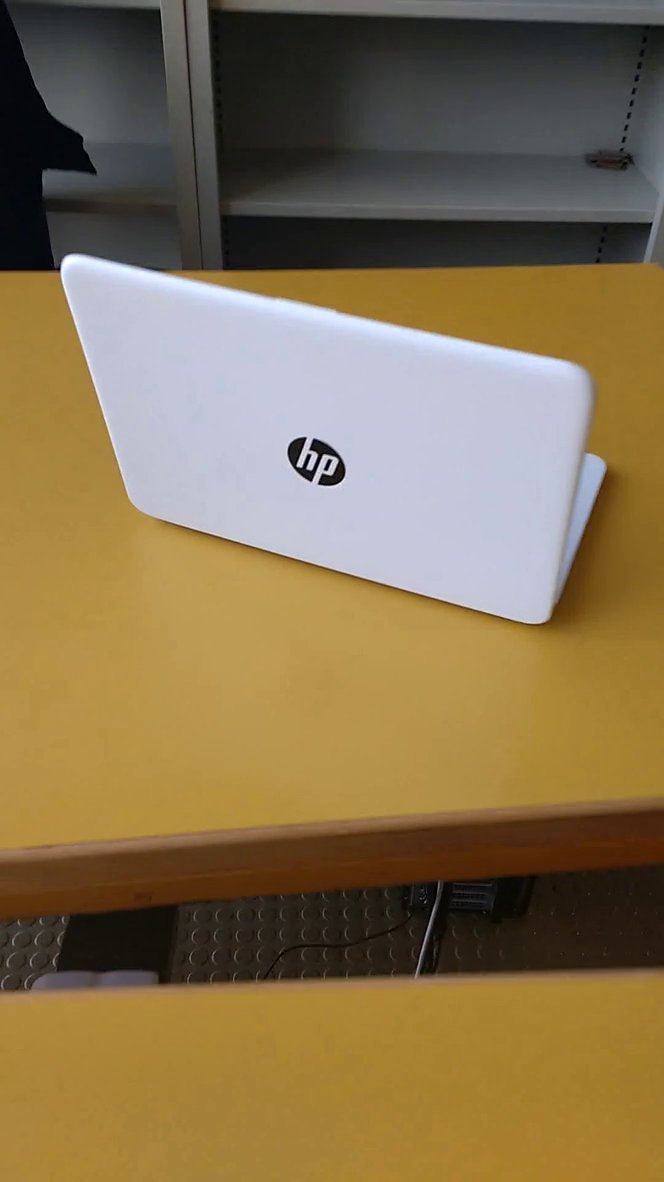laptop: (54, 240, 625, 631)
